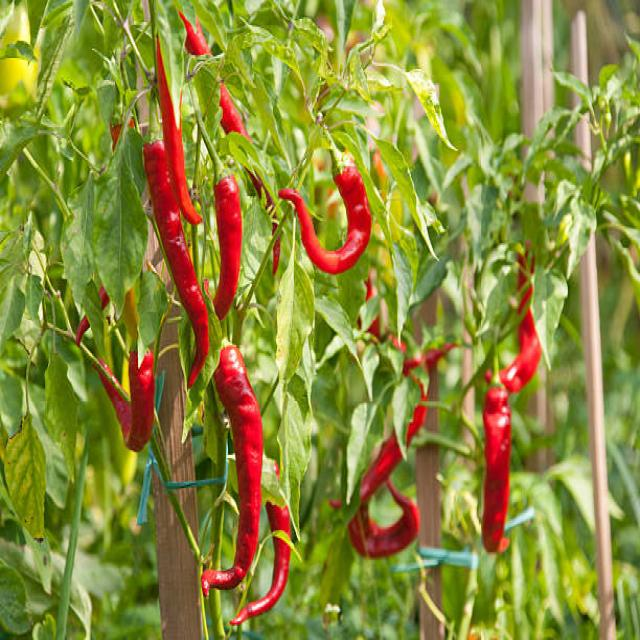Ripe: (144, 142, 209, 385), (201, 345, 262, 595), (279, 163, 371, 274), (158, 38, 202, 225), (229, 506, 292, 628), (99, 352, 154, 451), (482, 386, 511, 553), (214, 176, 241, 320)
